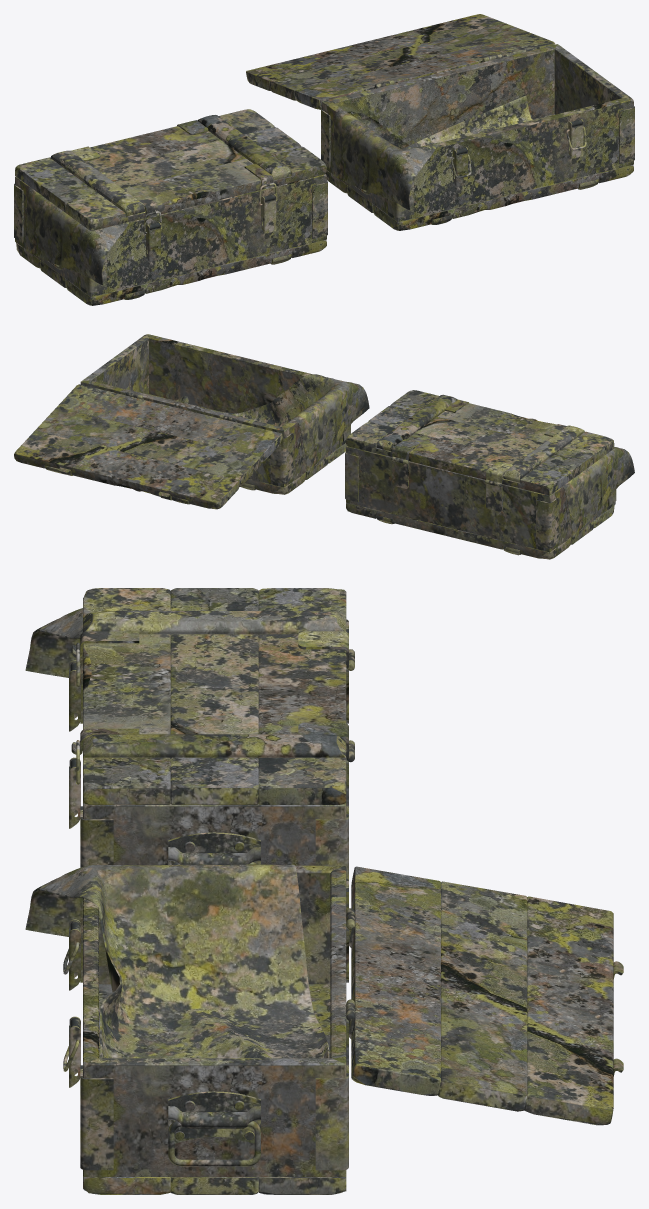
File: old_military_crate.gltf
3 views of the same model, one above another, from view 1: azimuth 30°, elevation 25°; view 2: azimuth 150°, elevation 25°; view 3: azimuth 270°, elevation 25° (orthographic). The views are drawn at different scales.
Visible parts, largest first — view 1: old_military_crate_b, old_military_crate_lid_a, old_military_crate_a, old_military_crate_lid_b, old_military_crate_cloth_b, old_military_crate_cloth_a, old_military_crate_latch_a, old_military_crate_latch_b; view 2: old_military_crate_lid_b, old_military_crate_lid_a, old_military_crate_a, old_military_crate_b, old_military_crate_cloth_b, old_military_crate_cloth_a; view 3: old_military_crate_lid_a, old_military_crate_lid_b, old_military_crate_b, old_military_crate_cloth_b, old_military_crate_a, old_military_crate_cloth_a, old_military_crate_latch_b, old_military_crate_latch_a.
Part boxes in pixels (bbox=[...]): old_military_crate_b: bbox=[321, 44, 634, 230]; old_military_crate_lid_a: bbox=[15, 109, 326, 230]; old_military_crate_a: bbox=[14, 174, 327, 305]; old_military_crate_lid_b: bbox=[246, 14, 555, 109]; old_military_crate_cloth_b: bbox=[333, 95, 532, 209]; old_military_crate_cloth_a: bbox=[26, 187, 129, 284]; old_military_crate_latch_a: bbox=[146, 194, 276, 261]; old_military_crate_latch_b: bbox=[453, 119, 583, 186]; old_military_crate_lid_b: bbox=[14, 384, 282, 509]; old_military_crate_lid_a: bbox=[346, 390, 614, 495]; old_military_crate_a: bbox=[345, 446, 616, 559]; old_military_crate_b: bbox=[80, 334, 350, 494]; old_military_crate_cloth_b: bbox=[174, 374, 369, 470]; old_military_crate_cloth_a: bbox=[562, 447, 634, 535]; old_military_crate_lid_a: bbox=[71, 588, 354, 804]; old_military_crate_lid_b: bbox=[346, 866, 623, 1125]; old_military_crate_b: bbox=[80, 865, 354, 1194]; old_military_crate_cloth_b: bbox=[25, 864, 329, 1058]; old_military_crate_a: bbox=[80, 619, 354, 879]; old_military_crate_cloth_a: bbox=[25, 608, 82, 677]; old_military_crate_latch_b: bbox=[69, 919, 80, 1087]; old_military_crate_latch_a: bbox=[69, 660, 80, 828].
Size of the model in its own units: 1.82 by 0.3009 by 0.9757.
